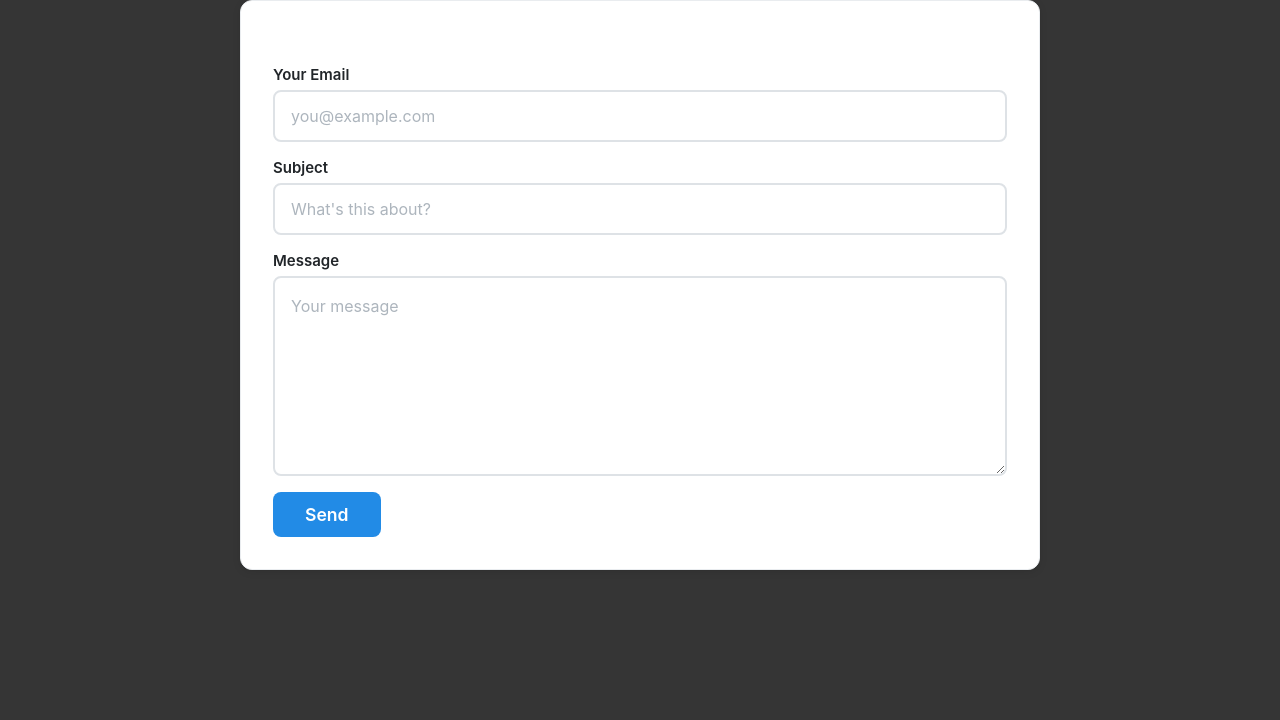
Test: ContactPage › shows validation errors and does not submit when required fields are empty
Click the button "Send" at coordinates (327, 514), box x1=273 y1=492 x2=381 y2=537
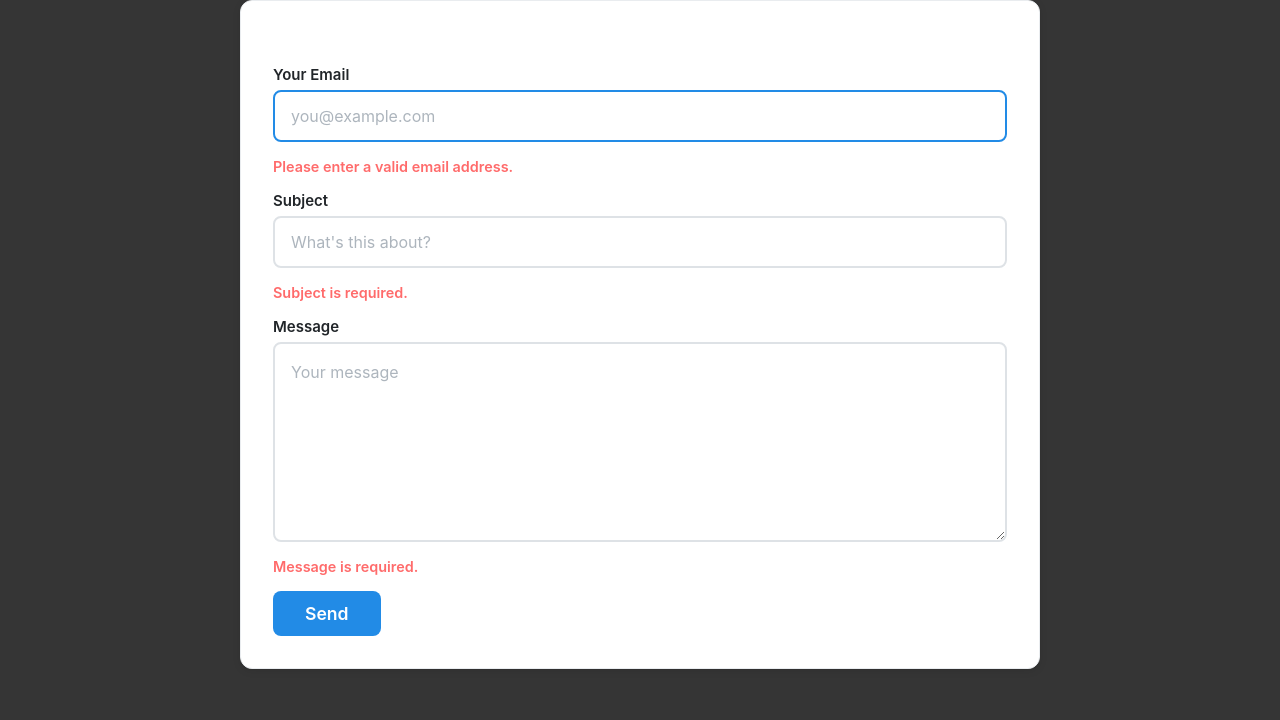
Expected: the text "Please enter a valid email address." is shown, x1=273 y1=158 x2=513 y2=175
Expected: the text "Subject is required." is shown, x1=273 y1=284 x2=408 y2=301
Expected: the text "Message is required." is shown, x1=273 y1=558 x2=418 y2=575
